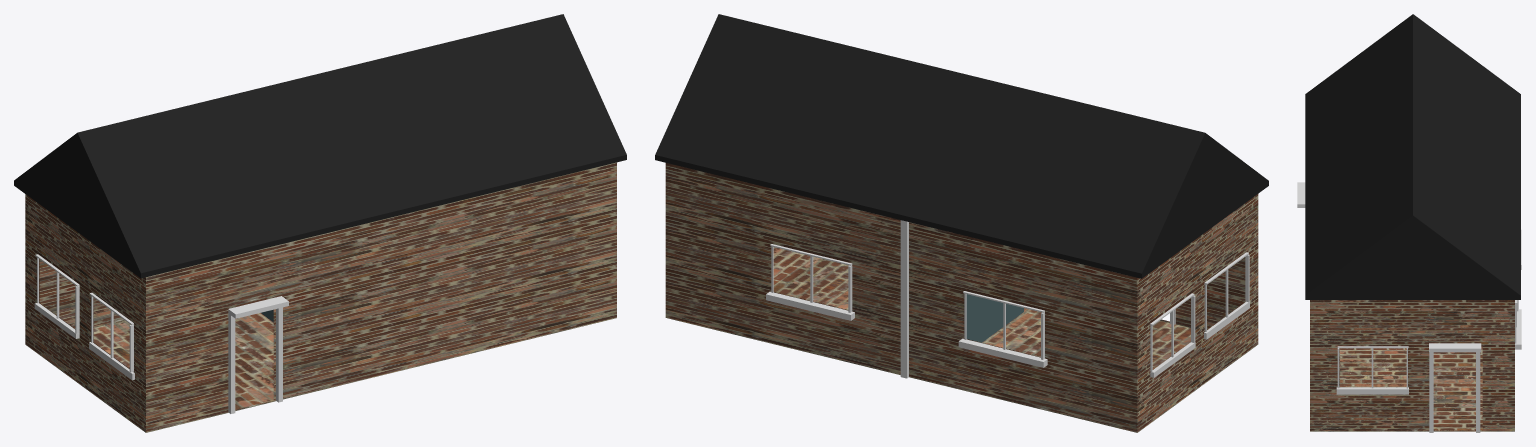
The model's file is bung1.glb.
The picture shows the model from 3 angles, left to right: view 1: azimuth 30°, elevation 25°; view 2: azimuth 150°, elevation 25°; view 3: azimuth 270°, elevation 25°; orthographic projection. The views are drawn at different scales.
Parts seen in each view (by area): view 1: Cube.014; view 2: Cube.014; view 3: Cube.014.
Part boxes in pixels (x1,y1,x2,y2): Cube.014: [14, 14, 626, 432]; Cube.014: [655, 14, 1268, 432]; Cube.014: [1297, 14, 1521, 432].
Size of the model in its own units: 35.9 by 18 by 16.69.
3 materials, 1 textured.
